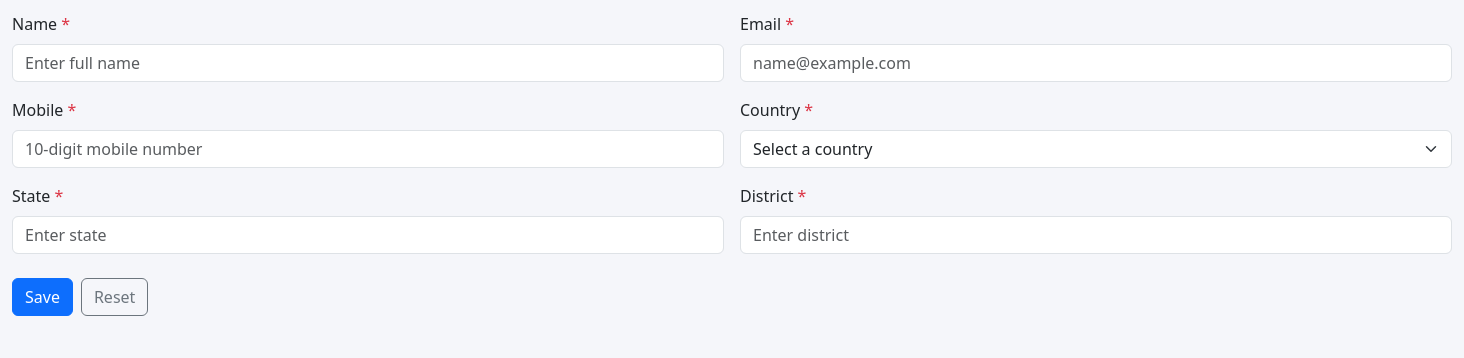
Test: EmployeeForm › shows a mobile validation error for an invalid number
This screenshot has width=1464, height=358.
Type "12345" into the field labelled "Mobile *" at (368, 149), box [12,130,724,168]
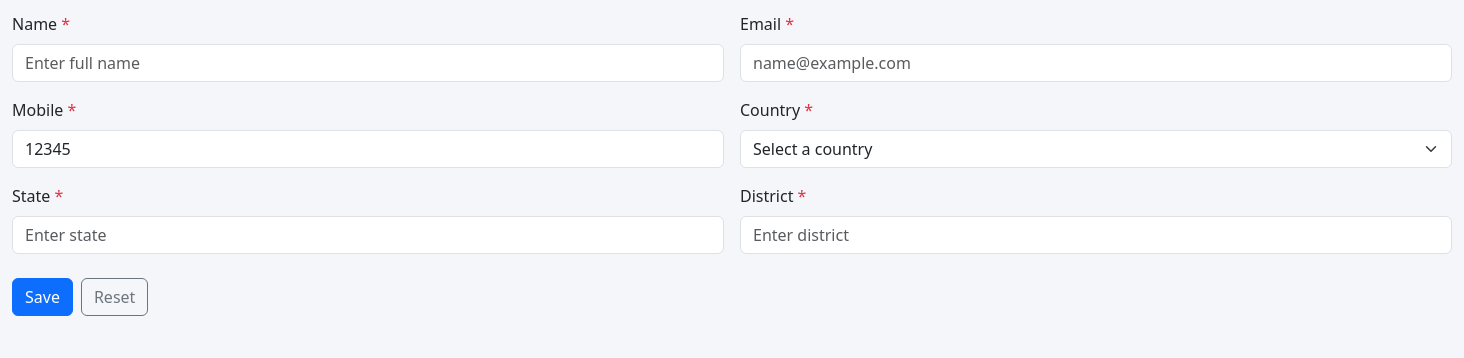
Leave the field labelled "Mobile *", box [12,130,724,168]
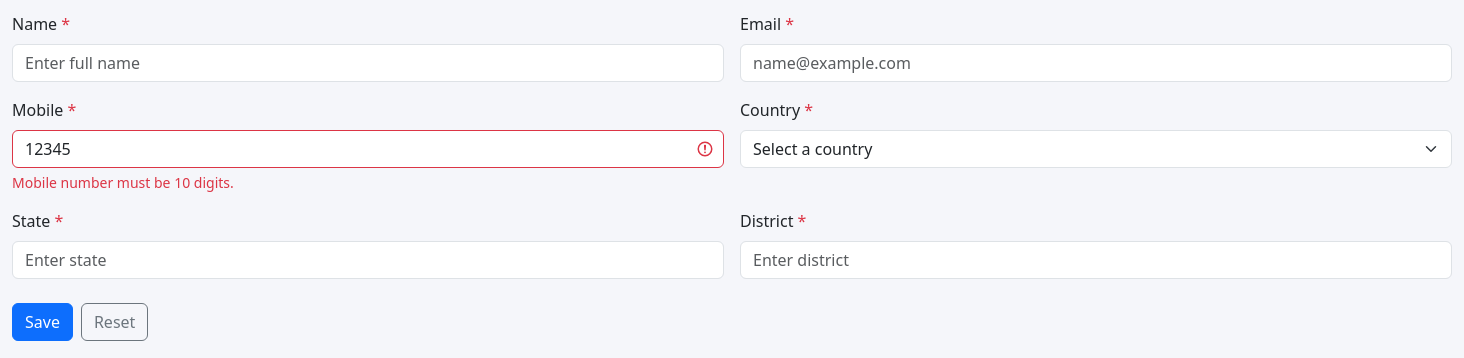
Expected: the text "Mobile number must be 10 digits." is shown, [12,173,234,192]
